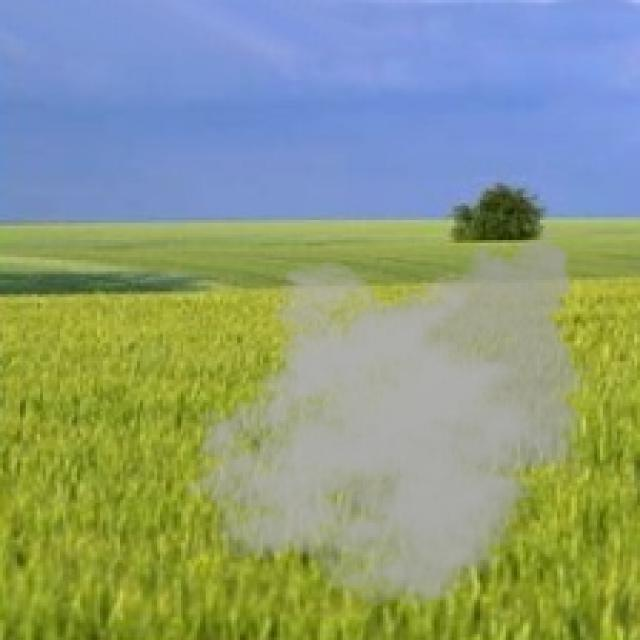Smoke: (180, 220, 597, 609)
